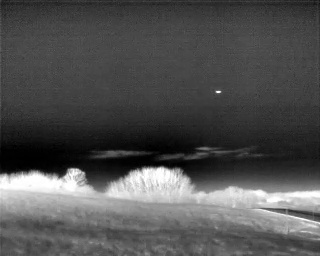AIRPLANE: (214, 88, 223, 95)
